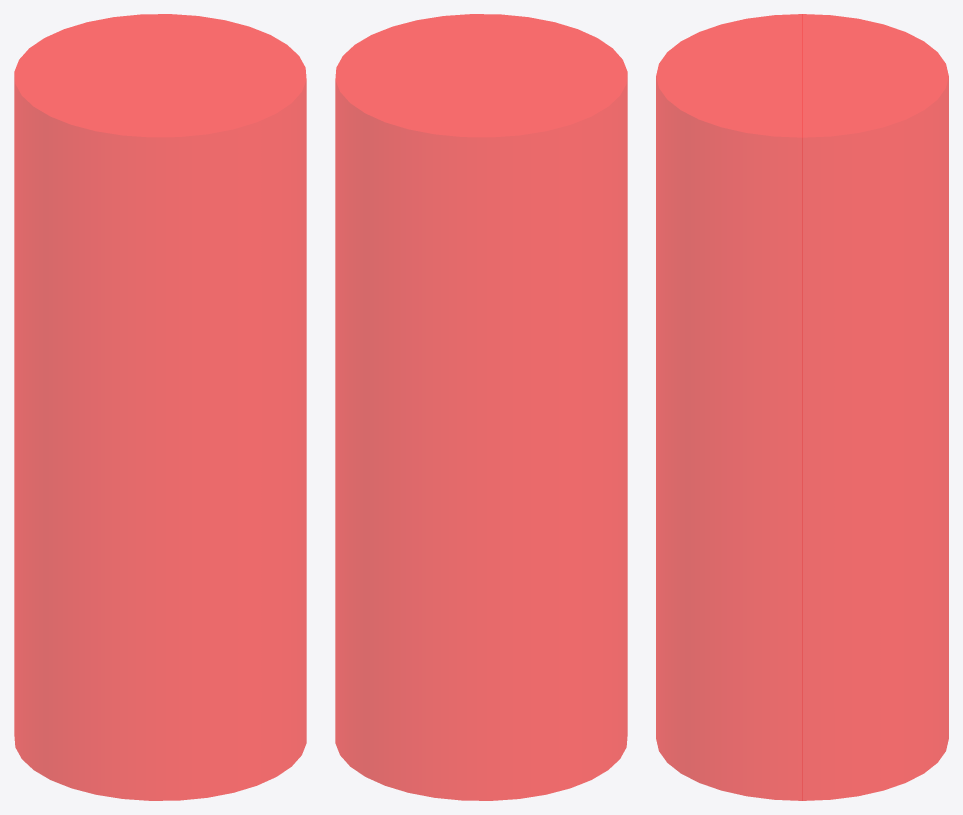
File: enchu_lay.gltf
The picture shows the model from 3 angles, left to right: view 1: azimuth 30°, elevation 25°; view 2: azimuth 150°, elevation 25°; view 3: azimuth 270°, elevation 25°; orthographic projection.
Bounding box in the file's own units: 200 × 500 × 200.
